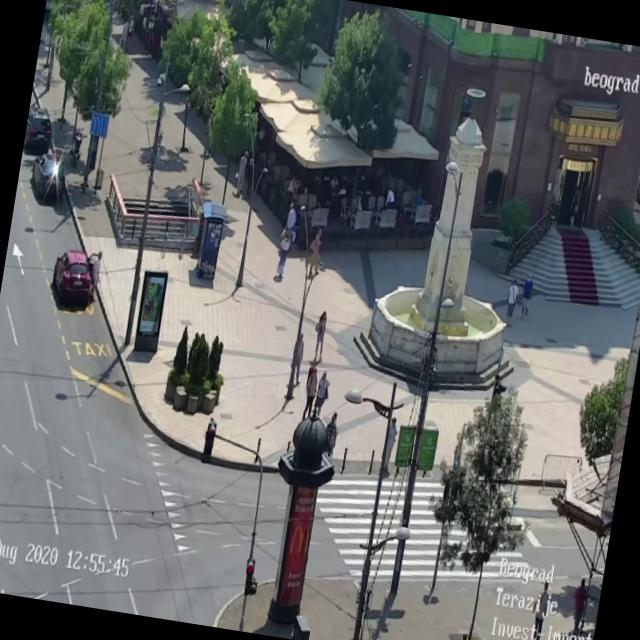car: (48, 247, 96, 310), (29, 147, 68, 198), (23, 102, 57, 154)
